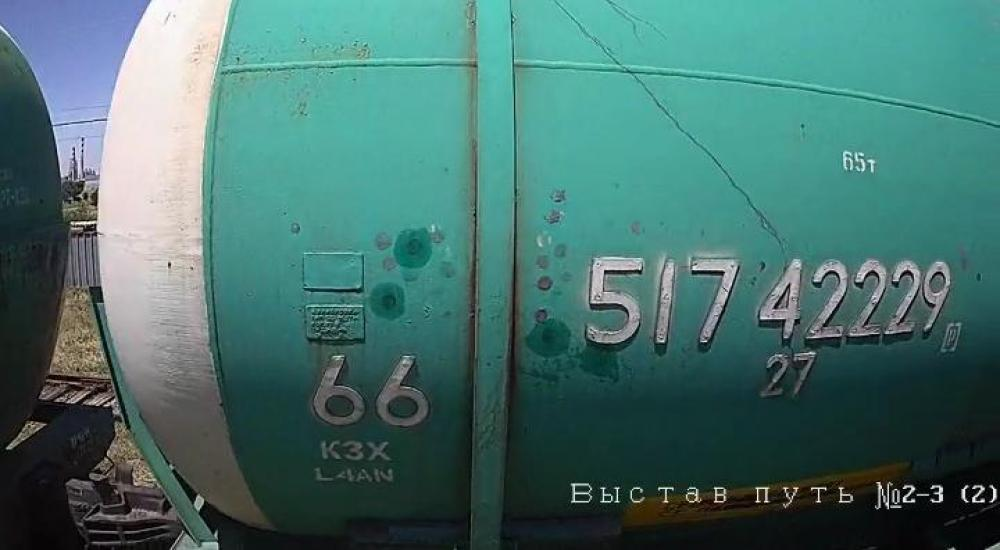Wagon-number: (577, 250, 958, 350)
